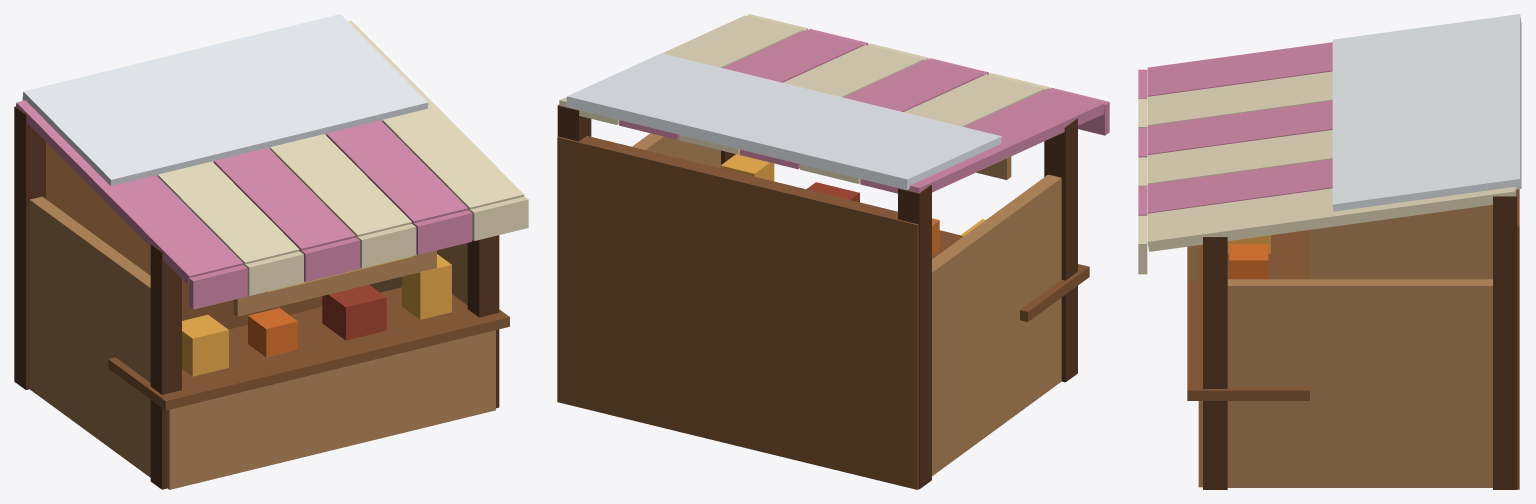
The model's file is bld_shop.glb.
The picture shows the model from 3 angles, left to right: view 1: azimuth 30°, elevation 25°; view 2: azimuth 150°, elevation 25°; view 3: azimuth 270°, elevation 25°; orthographic projection. The views are drawn at different scales.
Visible parts, largest first — view 1: bld_shop; view 2: bld_shop; view 3: bld_shop.
Part boxes in pixels (x1=…): bld_shop: x1=14, y1=14, x2=528, y2=489; bld_shop: x1=557, y1=14, x2=1109, y2=489; bld_shop: x1=1138, y1=14, x2=1521, y2=489.
Size of the model in its own units: 3.8 by 3.03 by 3.44.
1 material, 1 textured.
